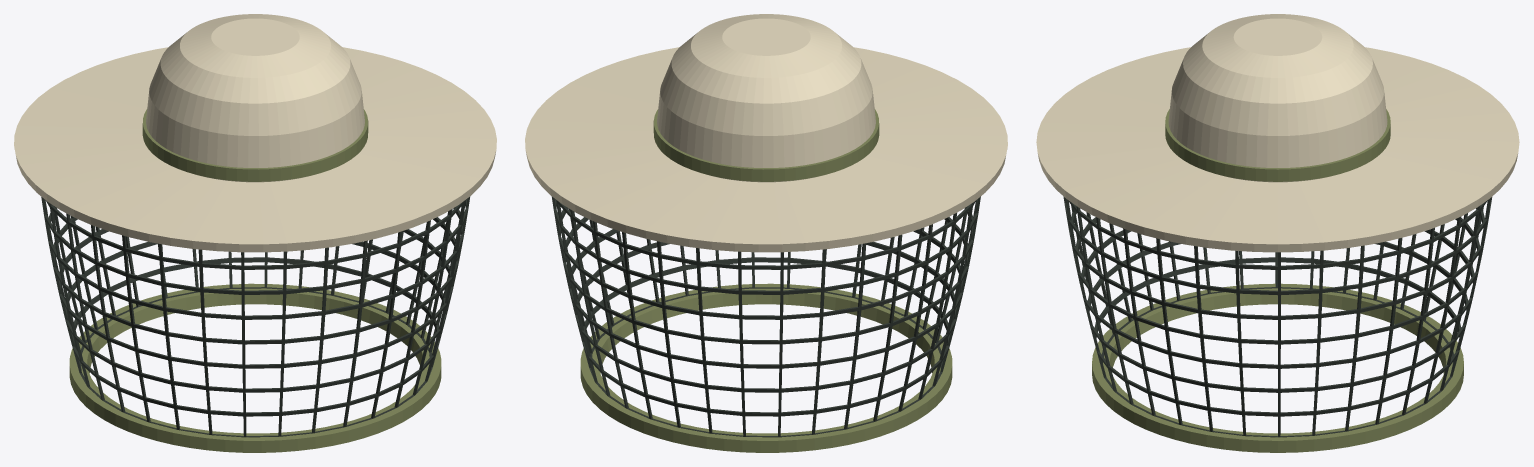
3 views of the same model, side by side, from view 1: azimuth 30°, elevation 25°; view 2: azimuth 150°, elevation 25°; view 3: azimuth 270°, elevation 25° (orthographic).
Parts seen in each view (by area): view 1: WideBrim, OpenVeilLattice, HollowCrown, LowerHem, CrownBand; view 2: WideBrim, OpenVeilLattice, HollowCrown, LowerHem, CrownBand; view 3: WideBrim, OpenVeilLattice, HollowCrown, LowerHem, CrownBand.
Part boxes in pixels (box(x1,y1,x2,y2)): WideBrim: box(14, 47, 496, 252); OpenVeilLattice: box(41, 196, 470, 437); HollowCrown: box(146, 14, 364, 182); LowerHem: box(69, 283, 441, 452); CrownBand: box(142, 109, 368, 181); WideBrim: box(525, 47, 1007, 252); OpenVeilLattice: box(551, 196, 980, 437); HollowCrown: box(657, 14, 875, 182); LowerHem: box(580, 283, 952, 452); CrownBand: box(653, 109, 879, 181); WideBrim: box(1036, 47, 1519, 252); OpenVeilLattice: box(1063, 196, 1492, 437); HollowCrown: box(1168, 14, 1387, 182); LowerHem: box(1092, 283, 1463, 452); CrownBand: box(1165, 109, 1390, 181).
Size of the model in its own units: 0.6 by 0.462 by 0.6.
